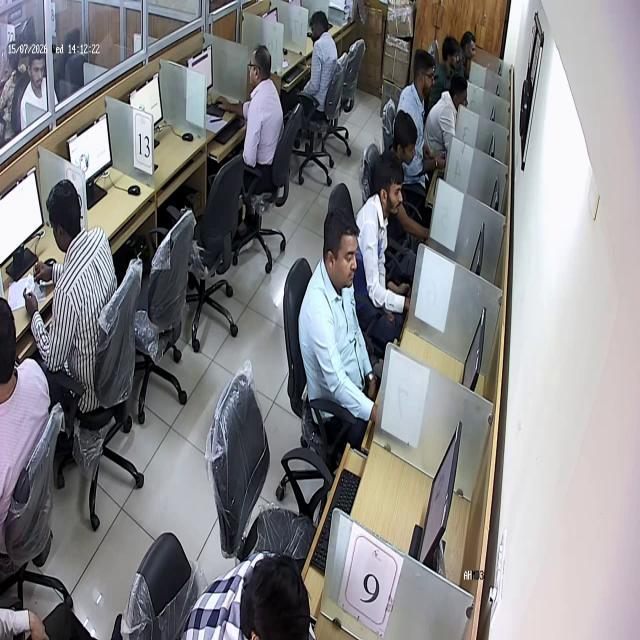paper-chit: (23, 273, 43, 300)
